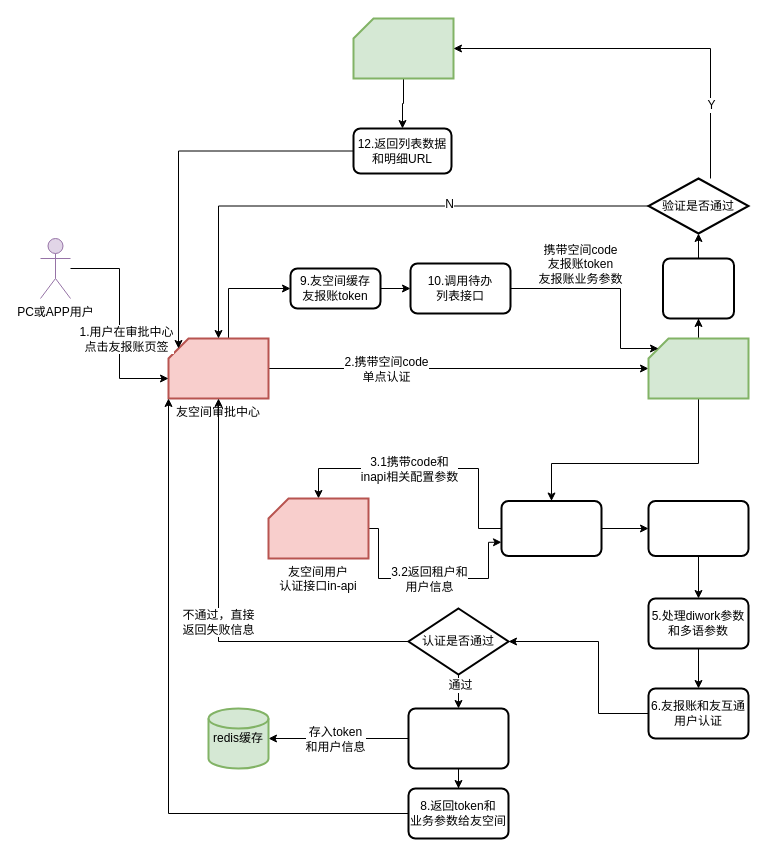
This 767x856 diagram has some shape labels left out. The centre of each missing label's shape, as x and y in pixels:
"11.友报账 验证token" belongs at point 698,288.
"3.解析code处理" belongs at point 551,528.
"4.处理租户 ID映射关系" belongs at point 698,528.
"7.生成友报账 单点登录token和业务参数" belongs at point 458,738.
"友报账shiro过滤器" belongs at point 698,368.
"友报账审批服务" belongs at point 403,48.
